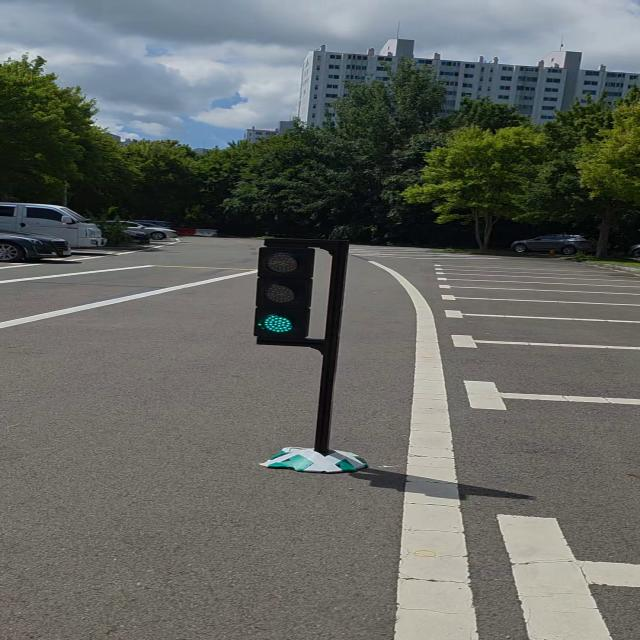green: (249, 236, 312, 348)
